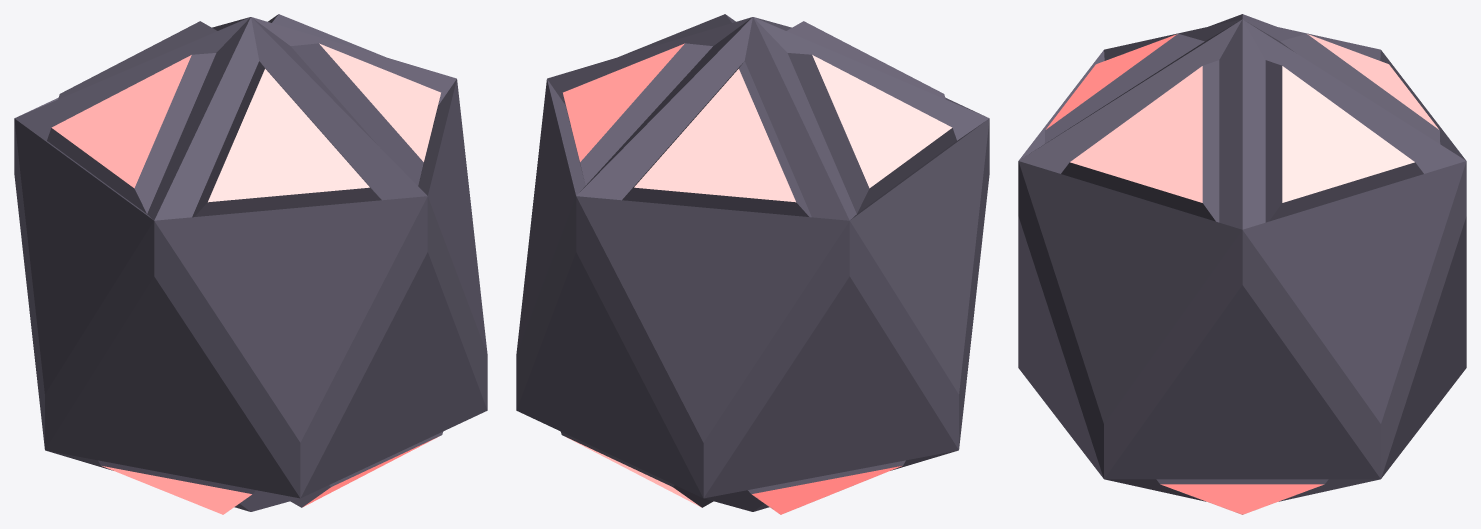
File: red_glow.fbx
The picture shows the model from 3 angles, left to right: view 1: azimuth 30°, elevation 25°; view 2: azimuth 150°, elevation 25°; view 3: azimuth 270°, elevation 25°; orthographic projection.
Parts seen in each view (by area): view 1: Icosphere.002; view 2: Icosphere.002; view 3: Icosphere.002.
Part boxes in pixels (x1,y1,x2,y2): Icosphere.002: (14, 14, 487, 514); Icosphere.002: (516, 14, 989, 514); Icosphere.002: (1018, 14, 1466, 514).
Bounding box in the file's own units: 135 × 155 × 129.
